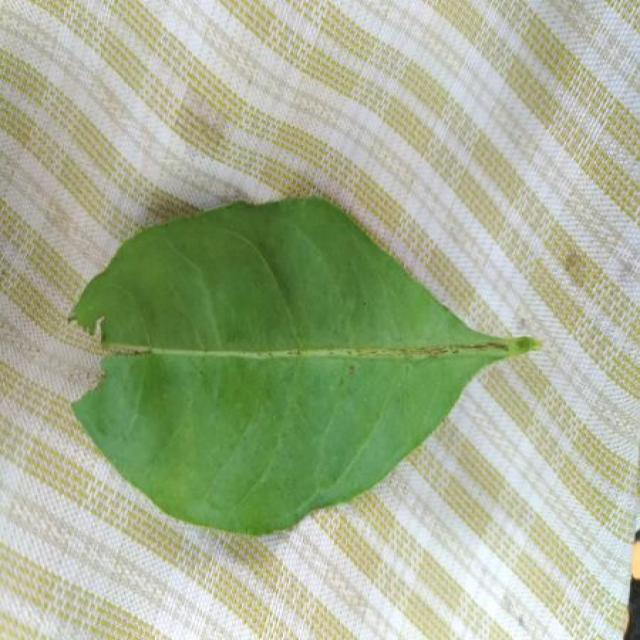henna: (70, 198, 538, 533)
